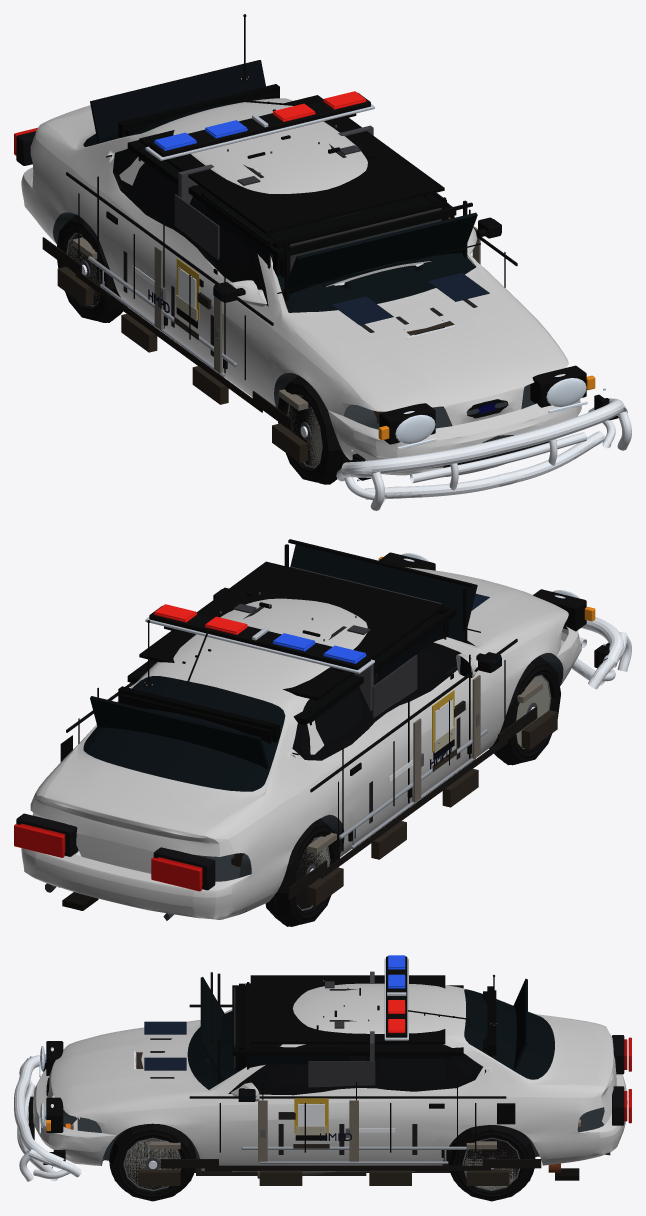
File: hmpd_cruiser_v12b.obj
3 renders of one model, top to bottom at view 1: azimuth 30°, elevation 25°; view 2: azimuth 150°, elevation 25°; view 3: azimuth 270°, elevation 25°, orthographic. The views are drawn at different scales.
Parts seen in each view (by area): view 1: Body.002, v11_int_head, windshield_v10, rearglass_v10, interior_occ_head, pushbar_upper, pushbar_lower, lightbar_shell, Wheel_FR.007, Wheel_RR.005, pushbar_mid, v12_grimeglass_1 (+21 smaller); view 2: Body.002, v11_int_head, windshield_v10, rearglass_v10, interior_occ_head, lightbar_shell, Wheel_RR.005, Wheel_FR.007, v12_grimeglass_1, dirt_rocker_-1, v11_occ_rg, interior_occ2_rg (+24 smaller); view 3: Body.002, v11_int_head, interior_occ_head, Wheel_FL.006, Wheel_RL.005, v12_grimeglass_2, dirt_rocker_1, pushbar_upper, windshield_v10, v11_sidewall_0, dirt_brakedust_Wheel_FL.006, dirt_brakedust_Wheel_RL.005 (+31 smaller).
Part boxes in pixels (x1=…): Body.002: x1=21, y1=98, x2=581, y2=477; v11_int_head: x1=139, y1=95, x2=444, y2=234; windshield_v10: x1=282, y1=212, x2=477, y2=296; rearglass_v10: x1=90, y1=60, x2=265, y2=142; interior_occ_head: x1=127, y1=140, x2=456, y2=258; pushbar_upper: x1=341, y1=398, x2=623, y2=476; pushbar_lower: x1=365, y1=431, x2=604, y2=499; lightbar_shell: x1=149, y1=92, x2=370, y2=156; Wheel_FR.007: x1=278, y1=375, x2=350, y2=484; Wheel_RR.005: x1=57, y1=215, x2=124, y2=322; pushbar_mid: x1=410, y1=432, x2=586, y2=483; v12_grimeglass_1: x1=174, y1=194, x2=219, y2=259; Body.002: x1=21, y1=567, x2=581, y2=920; v11_int_head: x1=139, y1=561, x2=444, y2=700; windshield_v10: x1=290, y1=544, x2=477, y2=642; rearglass_v10: x1=90, y1=696, x2=268, y2=769; interior_occ_head: x1=127, y1=606, x2=456, y2=725; lightbar_shell: x1=149, y1=605, x2=370, y2=669; Wheel_RR.005: x1=265, y1=819, x2=340, y2=926; Wheel_FR.007: x1=489, y1=656, x2=560, y2=765; v12_grimeglass_1: x1=372, y1=655, x2=417, y2=718; dirt_rocker_-1: x1=321, y1=740, x2=508, y2=878; v11_occ_rg: x1=118, y1=686, x2=279, y2=742; interior_occ2_rg: x1=119, y1=693, x2=272, y2=743; Body.002: x1=33, y1=983, x2=627, y2=1171; v11_int_head: x1=250, y1=975, x2=445, y2=1044; interior_occ_head: x1=232, y1=985, x2=463, y2=1056; Wheel_FL.006: x1=109, y1=1123, x2=195, y2=1201; Wheel_RL.005: x1=448, y1=1125, x2=534, y2=1201; v12_grimeglass_2: x1=308, y1=1061, x2=375, y2=1087; dirt_rocker_1: x1=205, y1=1165, x2=490, y2=1170; pushbar_upper: x1=14, y1=1055, x2=64, y2=1168; windshield_v10: x1=200, y1=977, x2=224, y2=1081; v11_sidewall_0: x1=124, y1=1138, x2=179, y2=1189; dirt_brakedust_Wheel_FL.006: x1=124, y1=1138, x2=179, y2=1189; dirt_brakedust_Wheel_RL.005: x1=463, y1=1138, x2=518, y2=1189.
Size of the model in its own units: 2.06 by 1.86 by 5.08.
